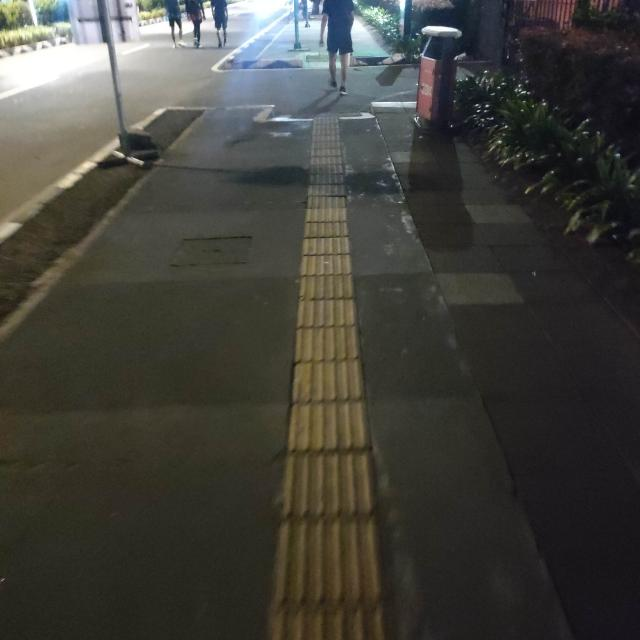lurus: (282, 127, 394, 640)
